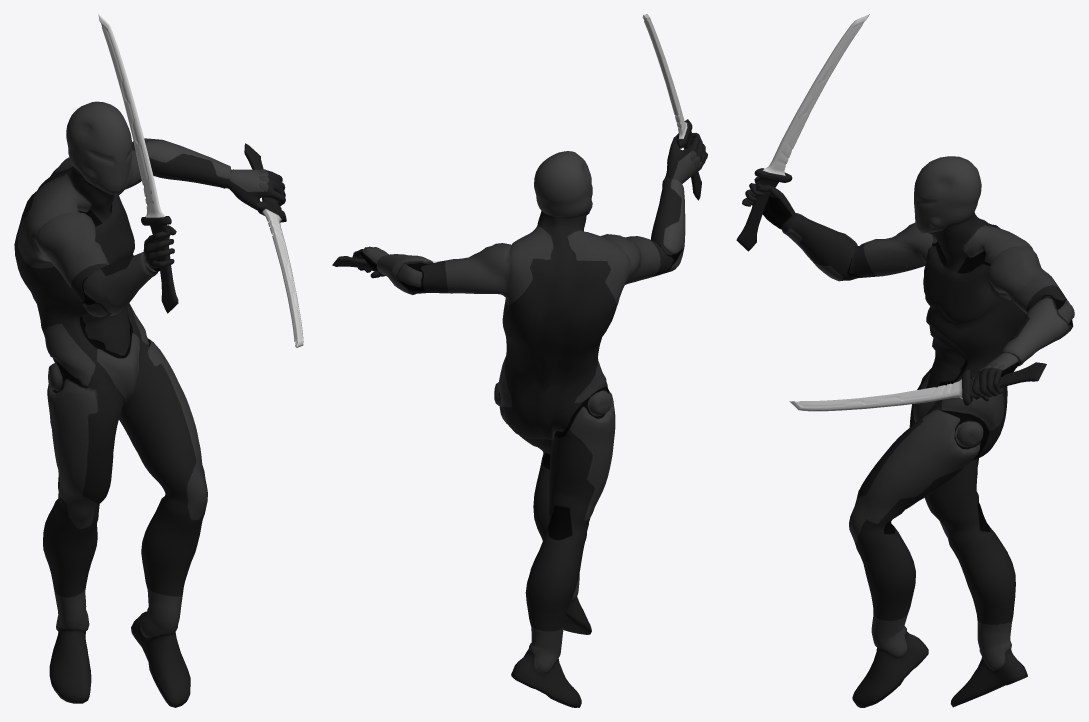
3 renders of one model, left to right at view 1: azimuth 30°, elevation 25°; view 2: azimuth 150°, elevation 25°; view 3: azimuth 270°, elevation 25°, orthographic. The views are drawn at different scales.
Visible parts, largest first — view 1: Cyborg_Ninja_Killer, Sword_l001, Sword_l; view 2: Cyborg_Ninja_Killer, Sword_l001; view 3: Cyborg_Ninja_Killer, Sword_l001, Sword_l.
Part boxes in pixels (x1,y1,x2,y2): Cyborg_Ninja_Killer: (14,101,285,707); Sword_l001: (98,14,178,313); Sword_l: (244,143,303,347); Cyborg_Ninja_Killer: (352,133,707,707); Sword_l001: (642,14,701,200); Cyborg_Ninja_Killer: (742,156,1074,707); Sword_l001: (736,14,869,251); Sword_l: (789,362,1046,411).
Bounding box in the file's own units: 93.21 × 233 × 105.
Materials: 2 (2 with a texture image).
